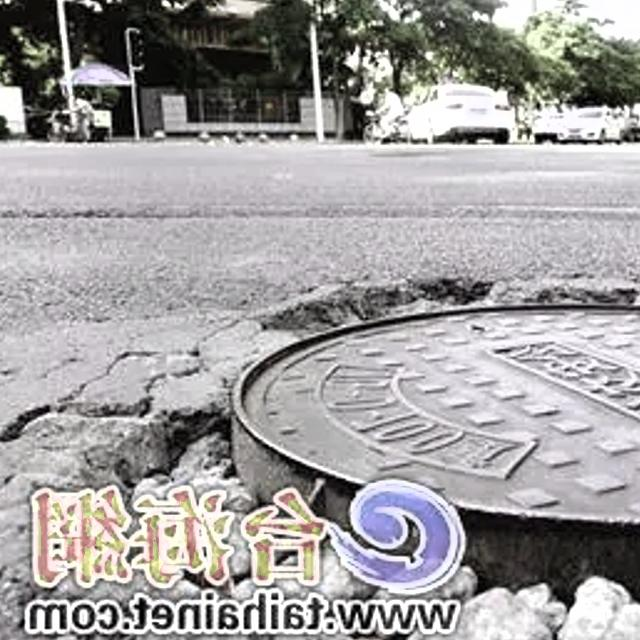circle: (0, 273, 640, 640)
